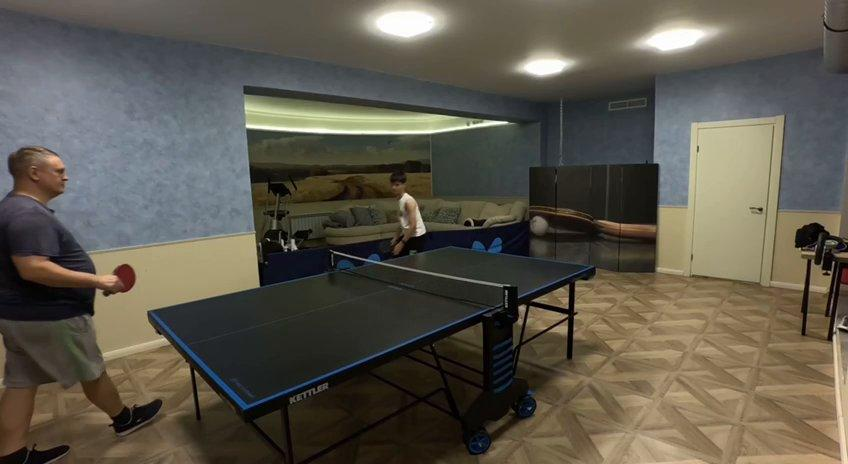Net: (327, 251, 515, 308)
Player1: (390, 173, 425, 256)
Player2: (0, 146, 162, 463)
Table: (149, 247, 594, 409)
